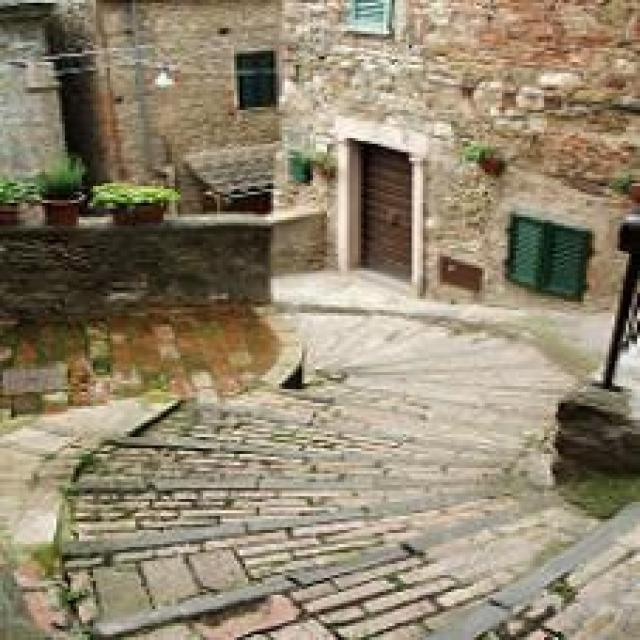downstair: (60, 427, 554, 585)
